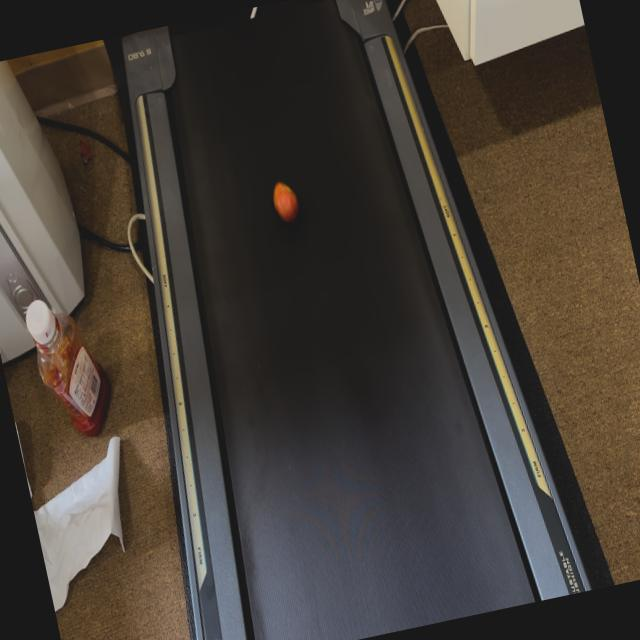Trash: (270, 178, 302, 222)
